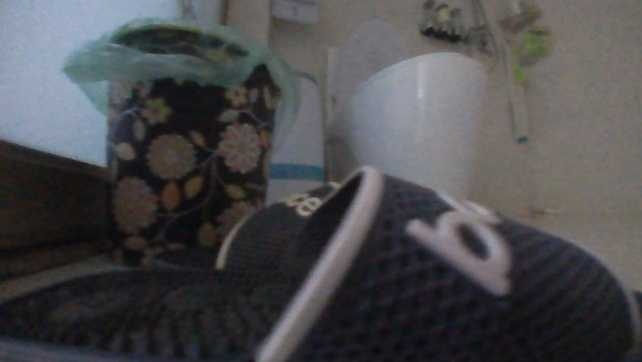slipper: (0, 161, 641, 360)
toilet: (320, 14, 490, 201)
trash_can: (59, 19, 292, 265)
